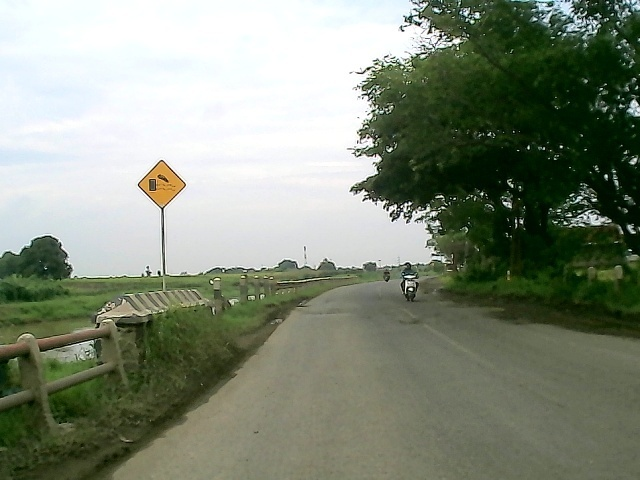Peringatan tepi air: (136, 158, 189, 214)
